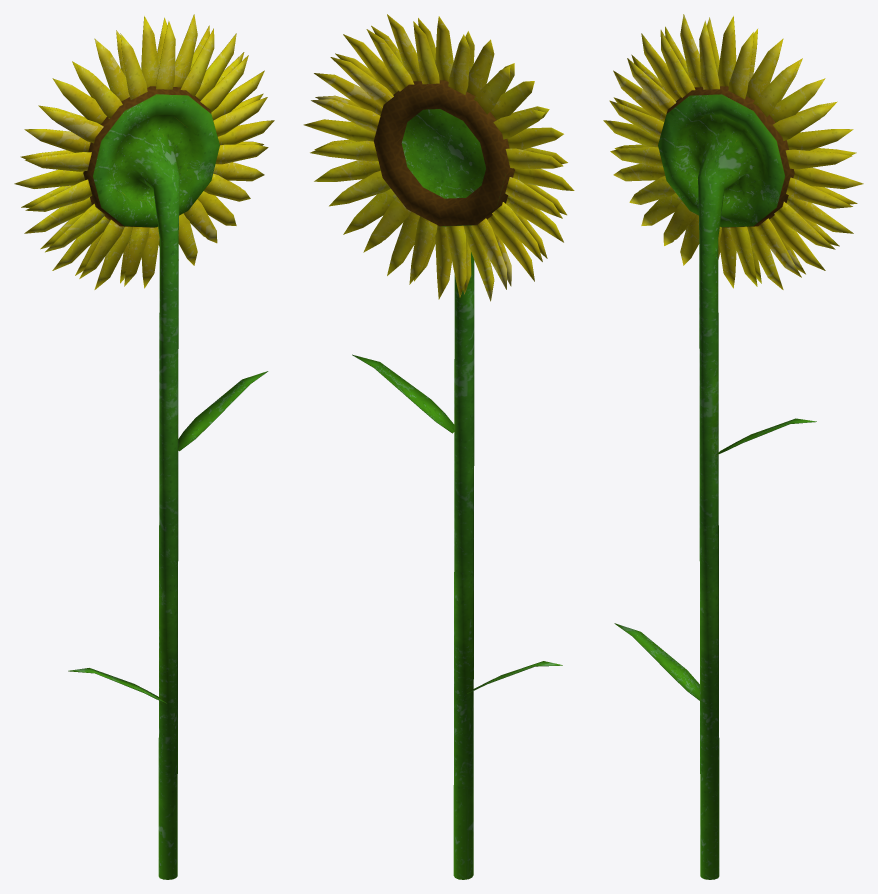
File: Sunflower.fbx
The picture shows the model from 3 angles, left to right: view 1: azimuth 30°, elevation 25°; view 2: azimuth 150°, elevation 25°; view 3: azimuth 330°, elevation 25°; orthographic projection. The views are drawn at different scales.
Visible parts, largest first — view 1: Plane.003; view 2: Plane.003; view 3: Plane.003.
Boxes of the visible parts, box(x1,y1,x2,y2) form: Plane.003: box(14, 14, 274, 879); Plane.003: box(303, 14, 574, 879); Plane.003: box(603, 14, 863, 879).
Bounding box in the file's own units: 482 × 1492 × 102.
